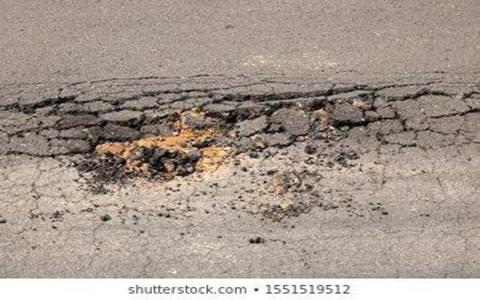patchy roads: (1, 13, 461, 259)
